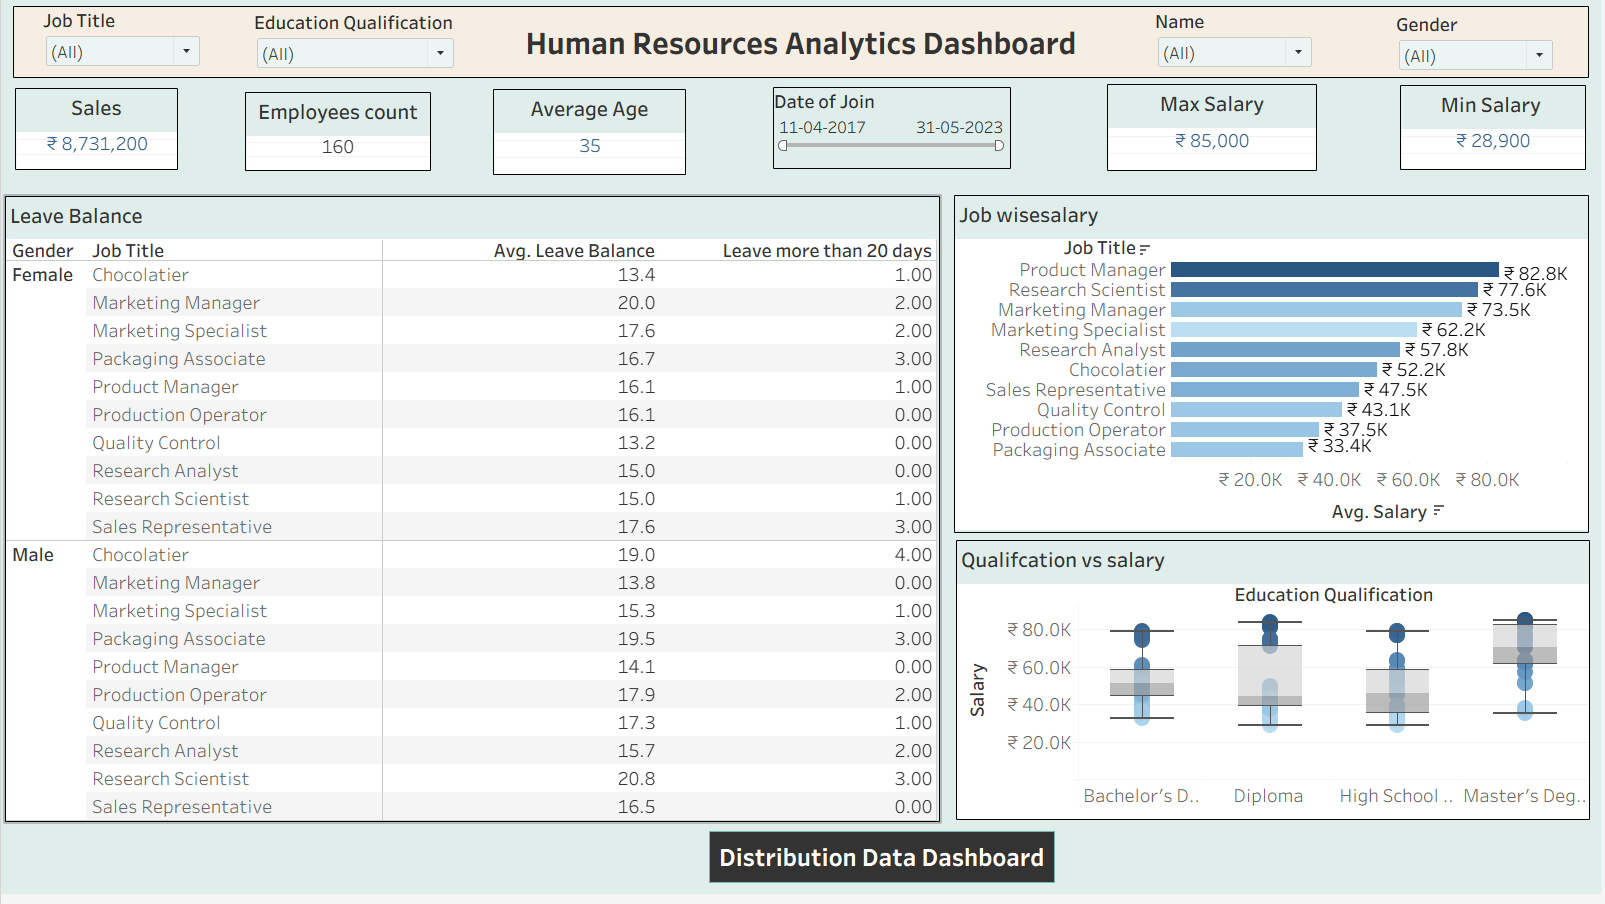

Layout of this report page (visuals, bound fields, positions):
{"tool":"tableau","page":{"name":"Detailed Data Dashboard","canvas":[1600,900],"ordinal":0},"visuals":[{"type":"title","box":[8,8,1584,80]},{"type":"filter","title":"Leave Balance","param":"[federated.1pevwlk0fcv3vt0zs9u921hgrpn9].[none:Job Title:nk]","box":[42,13,160,69]},{"type":"filter","title":"Qualifcation vs salary","param":"[federated.1pevwlk0fcv3vt0zs9u921hgrpn9].[none:Name:nk]","box":[1154,14,160,62]},{"type":"filter","title":"Qualifcation vs salary","param":"[federated.1pevwlk0fcv3vt0zs9u921hgrpn9].[none:Education Qualification:nk]","box":[253,15,203,62]},{"type":"filter","title":"Qualifcation vs salary","param":"[federated.1pevwlk0fcv3vt0zs9u921hgrpn9].[none:Gender:nk]","box":[1395,17,160,62]},{"type":"worksheet","title":"Max Salary","mark":"Text","rows":["Salary"],"box":[1106,90,210,87]},{"type":"worksheet","title":"Min Salary ","mark":"Text","rows":["Salary"],"box":[1399,91,186,85]},{"type":"filter","title":"Employees Count","param":"[federated.1pevwlk0fcv3vt0zs9u921hgrpn9].[none:Date of Join:qk]","box":[776,92,238,82]},{"type":"blank","box":[3,93,1576,95]},{"type":"worksheet","title":"Sales","mark":"Text","rows":["Salary"],"box":[21,94,163,82]},{"type":"worksheet","title":"Average Age","mark":"Text","rows":["Salary"],"box":[492,95,193,86]},{"type":"worksheet","title":"Employees Count","mark":"Text","rows":["Salary"],"box":[244,98,186,79]},{"type":"worksheet","title":"Job wisesalary","mark":"Automatic","rows":["Job Title"],"cols":["Salary"],"box":[953,201,635,338]},{"type":"worksheet","title":"Leave Balance","mark":"Automatic","rows":["Gender","Job Title"],"box":[4,202,935,626]},{"type":"worksheet","title":"Qualifcation vs salary","mark":"Circle","rows":["Salary"],"cols":["Education Qualification"],"box":[955,546,634,280]},{"type":"dashboard-object","box":[708,837,346,52]}]}

Visuals, with their boxes in screenshot pixels (x1, y1, x2, y2), scaled from the page's 1600x900 canvas onto the 1605x904 screenshot:
title: l=8, t=8, r=1597, b=88
"Leave Balance" filter: l=42, t=13, r=203, b=82
"Qualifcation vs salary" filter: l=1158, t=14, r=1318, b=76
"Qualifcation vs salary" filter: l=254, t=15, r=457, b=77
"Qualifcation vs salary" filter: l=1399, t=17, r=1560, b=79
"Max Salary" worksheet (Text marks): l=1109, t=90, r=1320, b=178
"Min Salary " worksheet (Text marks): l=1403, t=91, r=1590, b=177
"Employees Count" filter: l=778, t=92, r=1017, b=175
blank: l=3, t=93, r=1584, b=189
"Sales" worksheet (Text marks): l=21, t=94, r=185, b=177
"Average Age" worksheet (Text marks): l=494, t=95, r=687, b=182
"Employees Count" worksheet (Text marks): l=245, t=98, r=431, b=178
"Job wisesalary" worksheet: l=956, t=202, r=1593, b=541
"Leave Balance" worksheet: l=4, t=203, r=942, b=832
"Qualifcation vs salary" worksheet (Circle marks): l=958, t=548, r=1594, b=830
dashboard-object: l=710, t=841, r=1057, b=893
